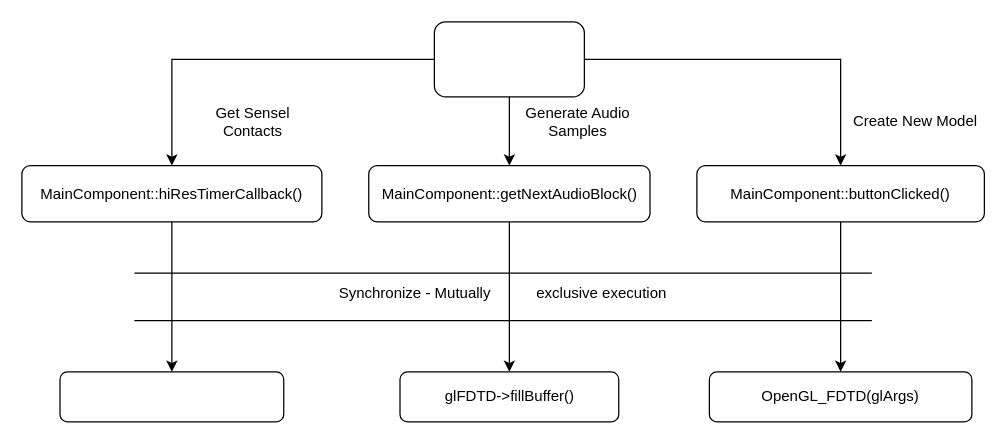
This 1006x444 diagram has some shape labels left out. Each missing label, with the centre of its shape:
GetSenselMorphContacts(): [171,396]
JUCE: [508,59]
